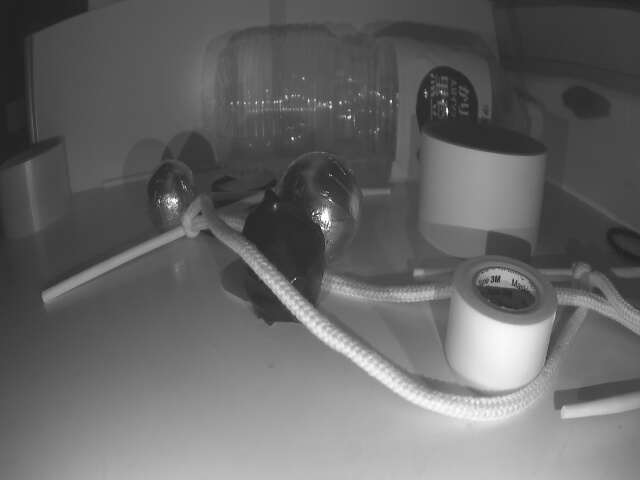Dead: (248, 197, 322, 314)
Live: (281, 152, 365, 254), (146, 159, 198, 224)
